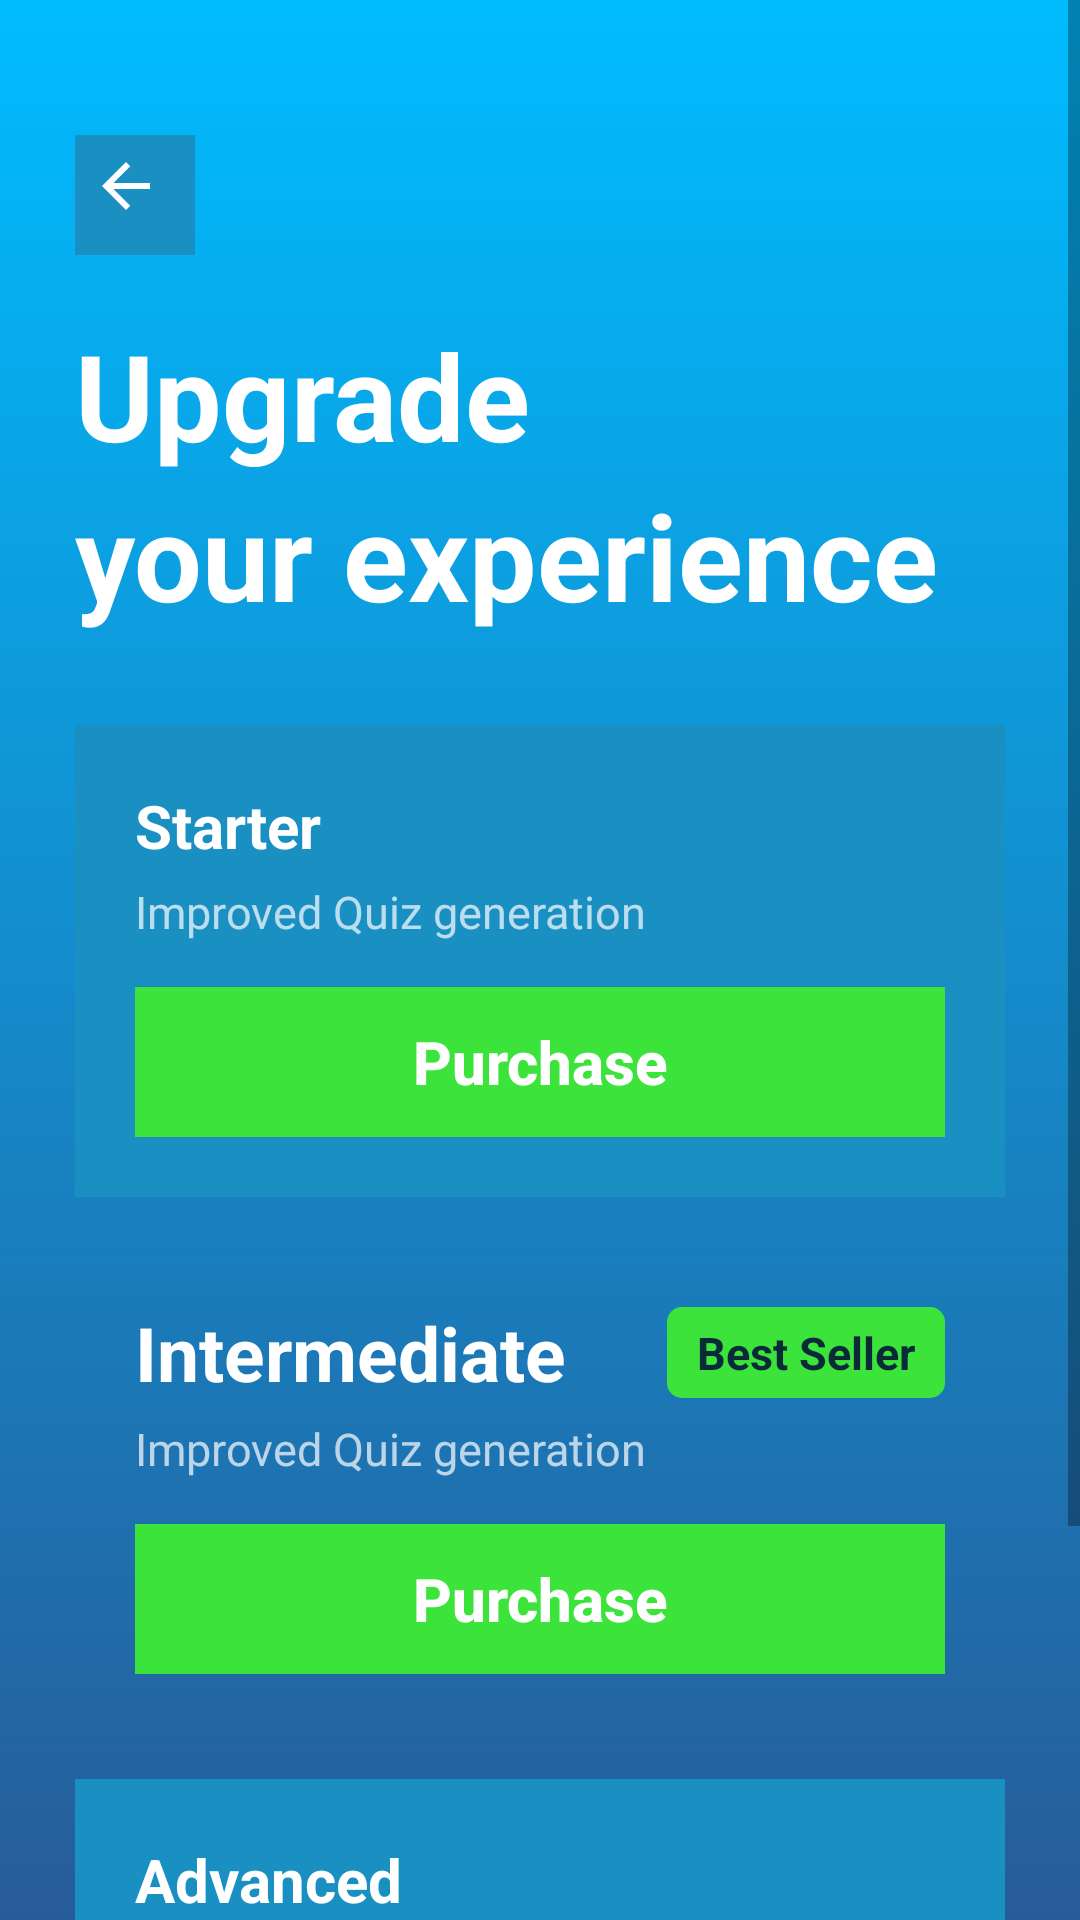

Named icons in this screenshot (1080x1920) and their centers, point (x, y):
Back: point (135, 195)
